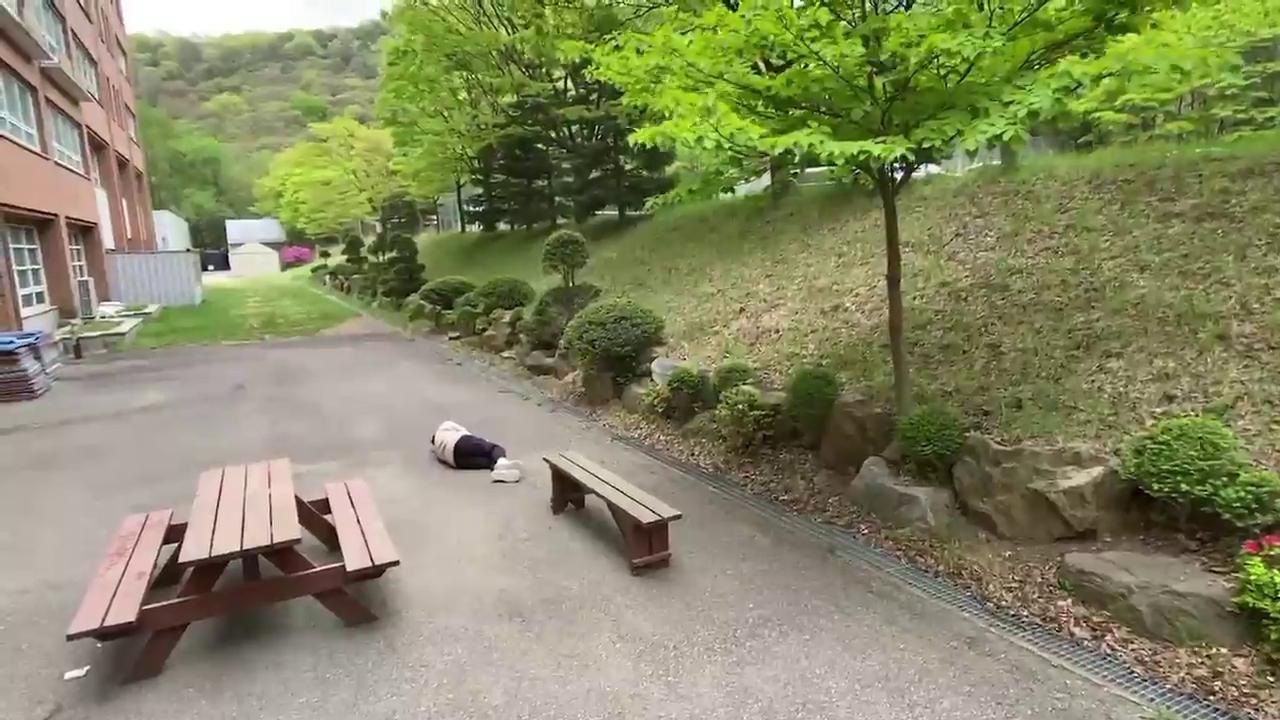faint: (427, 419, 527, 486)
